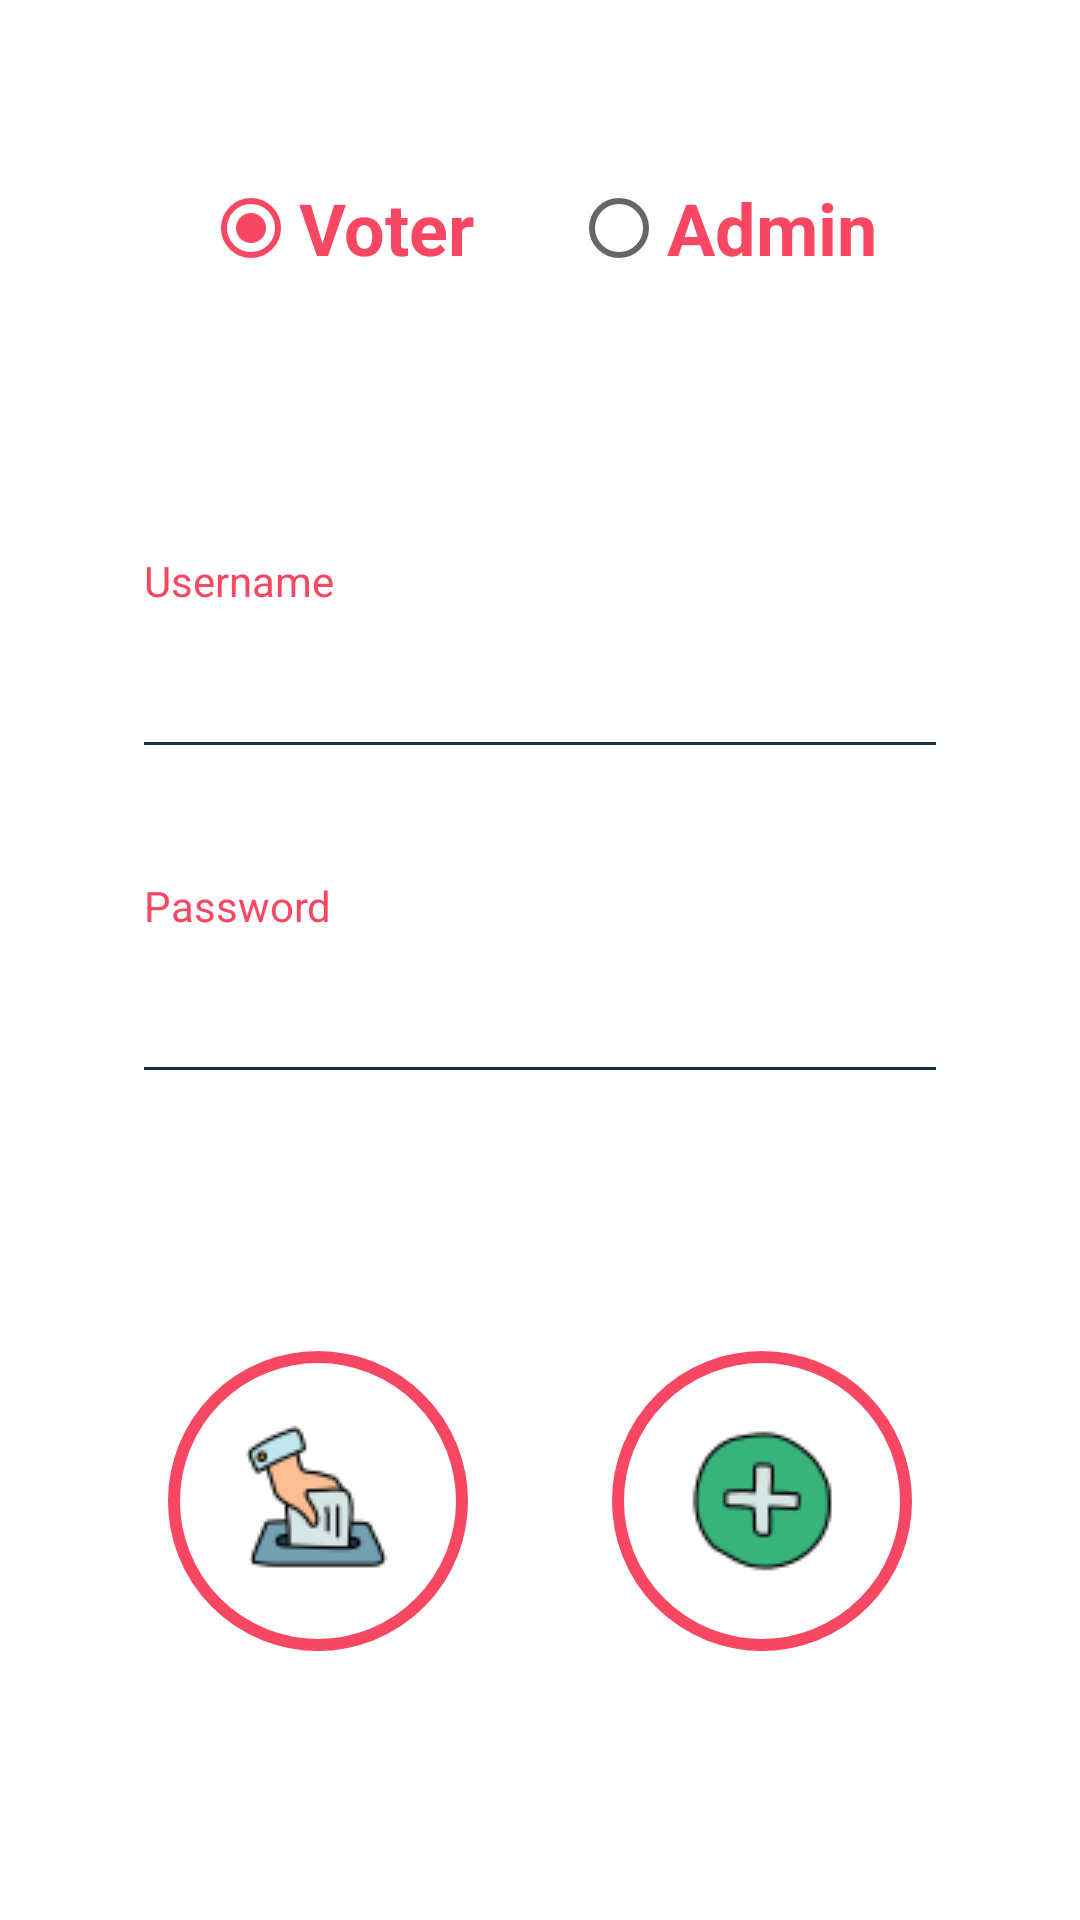

Where icons sit on this 1080px×1920px app screen, as region(x1, y1, x2, y2):
newone: region(612, 1351, 912, 1651)
vote: region(168, 1351, 468, 1651)
